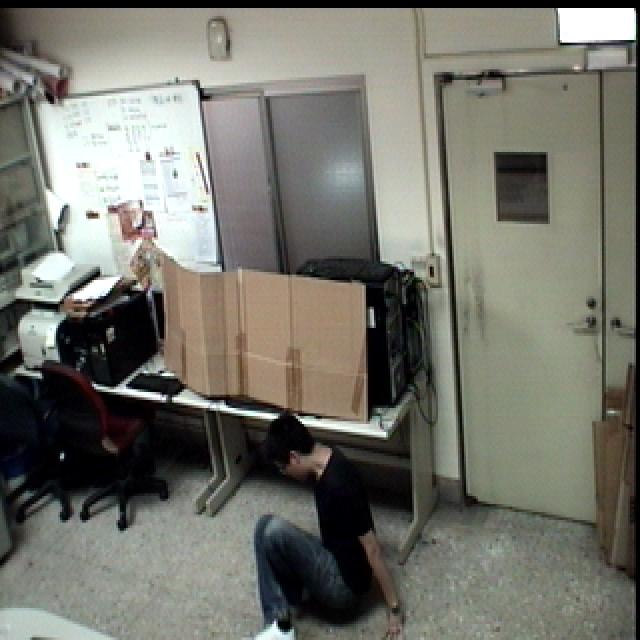sit: (244, 411, 418, 640)
